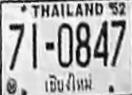0: (57, 22, 72, 67)
1: (31, 23, 38, 68)
4: (93, 20, 107, 66)
7: (8, 22, 25, 70), (110, 19, 127, 66)
8: (75, 21, 90, 67)
CMI: (40, 70, 96, 93)
